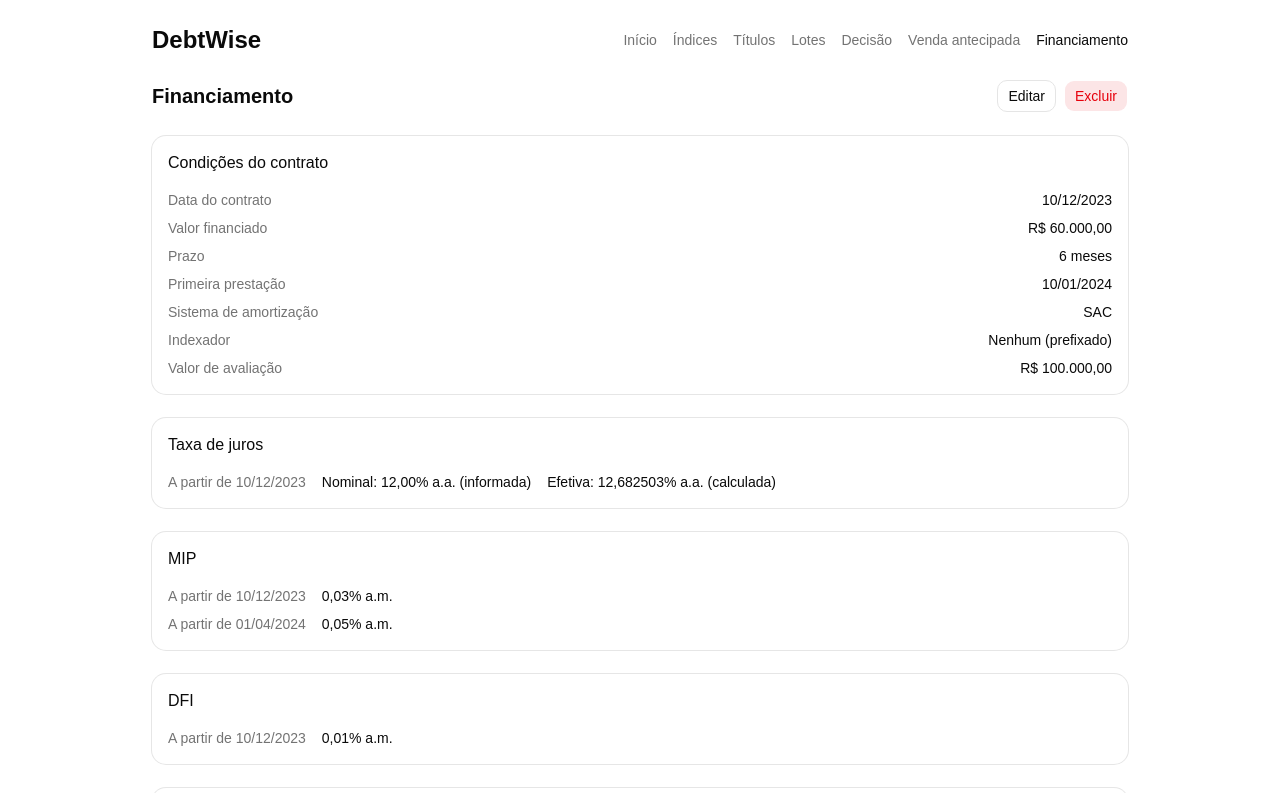
Test: deleting the mortgage › says so when the server refuses to delete
Click the button "Excluir" at (1096, 96), box left=1064, top=80, right=1128, bottom=112
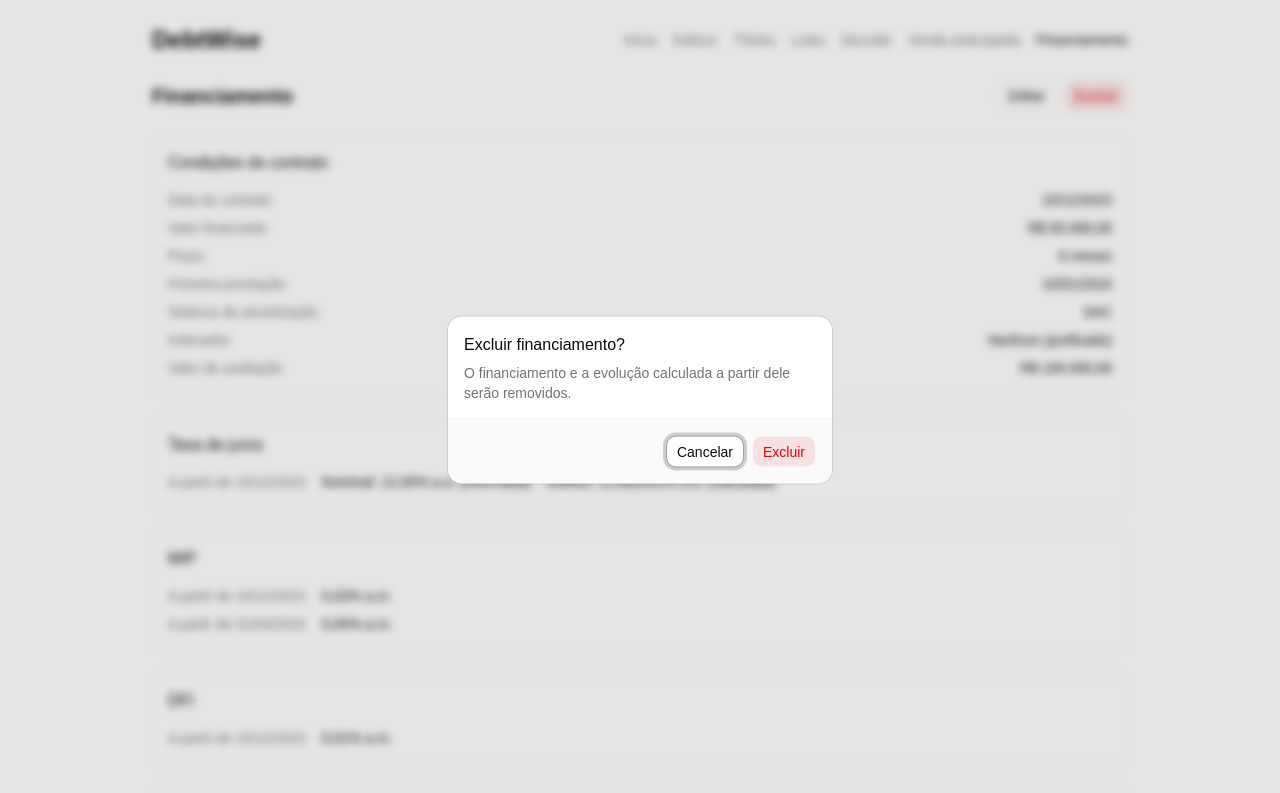
Click the button "Excluir" at (784, 452), box left=752, top=436, right=816, bottom=468
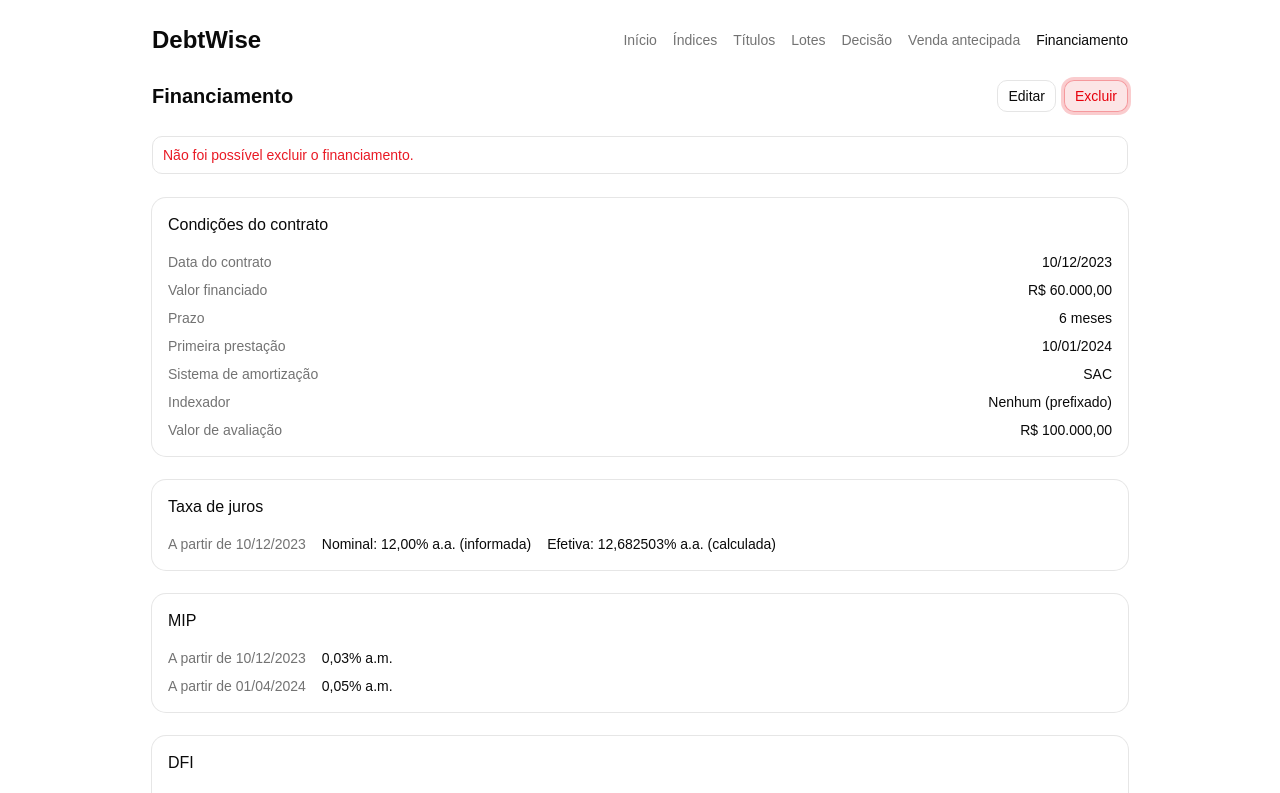
Expected: the text "R$ 60.000,00" is shown, left=1028, top=280, right=1112, bottom=300
Now the text "Não foi possível excluir o financiamento." is shown, box left=163, top=147, right=414, bottom=163
